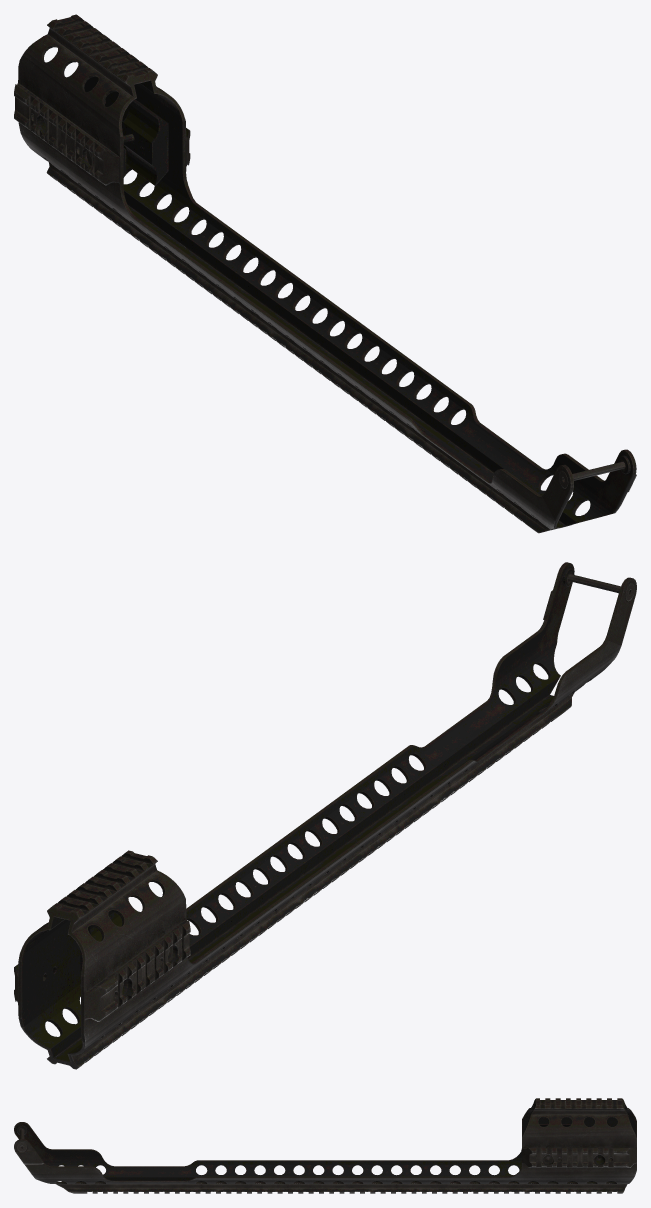
The picture shows the model from 3 angles, top to bottom: view 1: azimuth 30°, elevation 25°; view 2: azimuth 150°, elevation 25°; view 3: azimuth 270°, elevation 25°; orthographic projection. The views are drawn at different scales.
Visible parts, largest first — view 1: TW_5eeb2ff5ea4f8b73c827350b_PZ_Import; view 2: TW_5eeb2ff5ea4f8b73c827350b_PZ_Import; view 3: TW_5eeb2ff5ea4f8b73c827350b_PZ_Import.
Boxes of the visible parts, box(x1,y1,x2,y2) form: TW_5eeb2ff5ea4f8b73c827350b_PZ_Import: box(14, 14, 636, 533); TW_5eeb2ff5ea4f8b73c827350b_PZ_Import: box(14, 562, 636, 1069); TW_5eeb2ff5ea4f8b73c827350b_PZ_Import: box(14, 1098, 636, 1193).
Bounding box in the file's own units: 0.0339 × 0.3503 × 0.055.
Materials: 1 (1 with a texture image).
